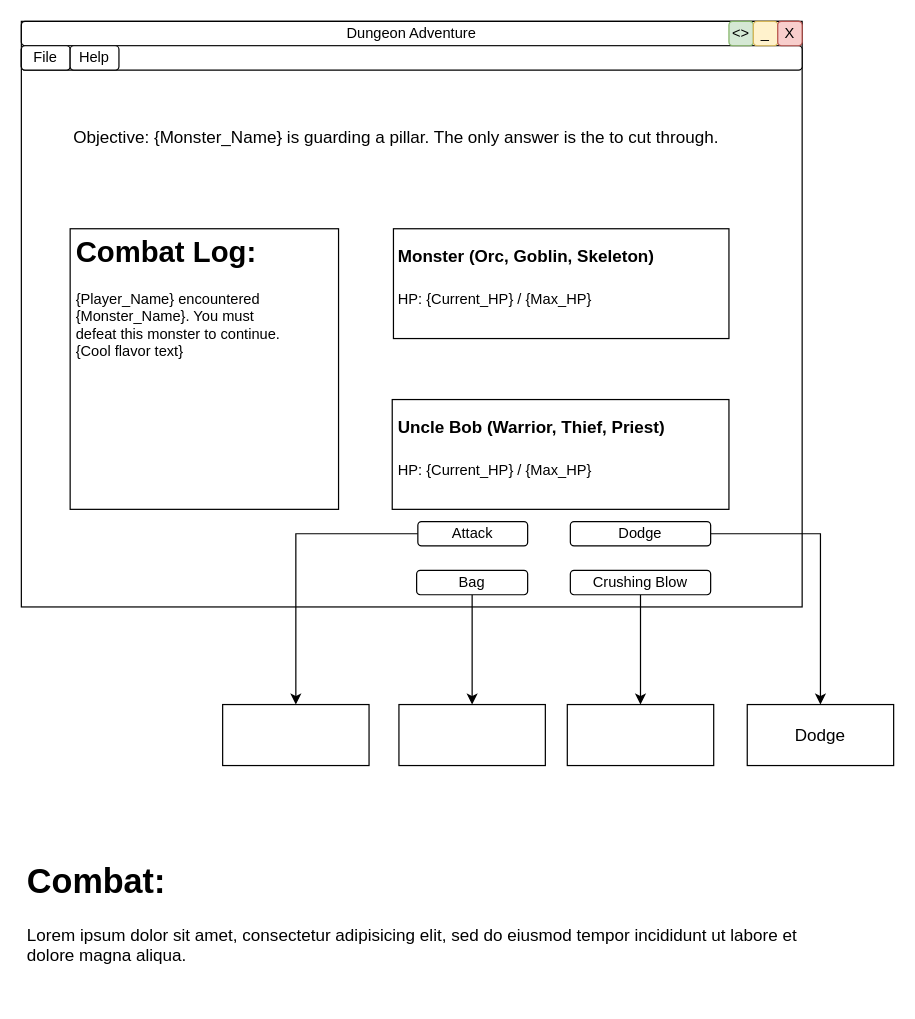
Image size: 915x1019. Some labels were removed from this diagram. The shapes that lost their labels are listed below. From the top down, each one's centre as x and y in pixels, then its label:
the point at 295,734: Basic attack
the point at 471,734: Current Potions
the point at 640,734: Special attack
